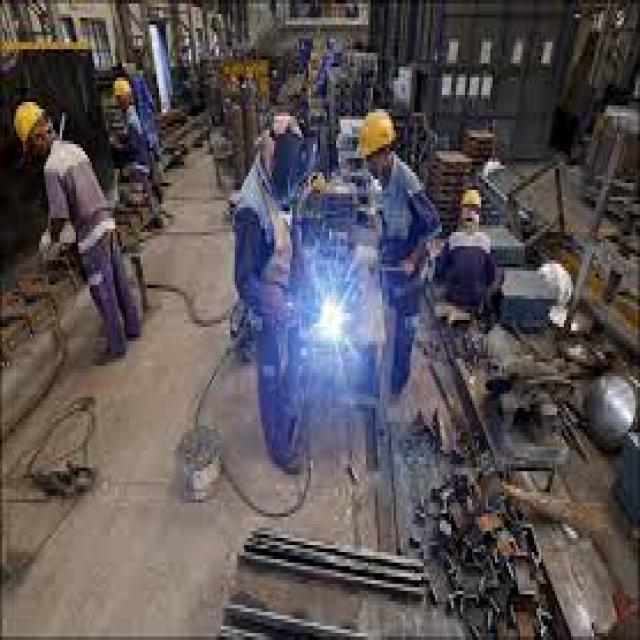Safety-Helmet: (350, 98, 401, 166), (7, 92, 53, 152), (454, 179, 488, 218), (108, 70, 136, 109)
